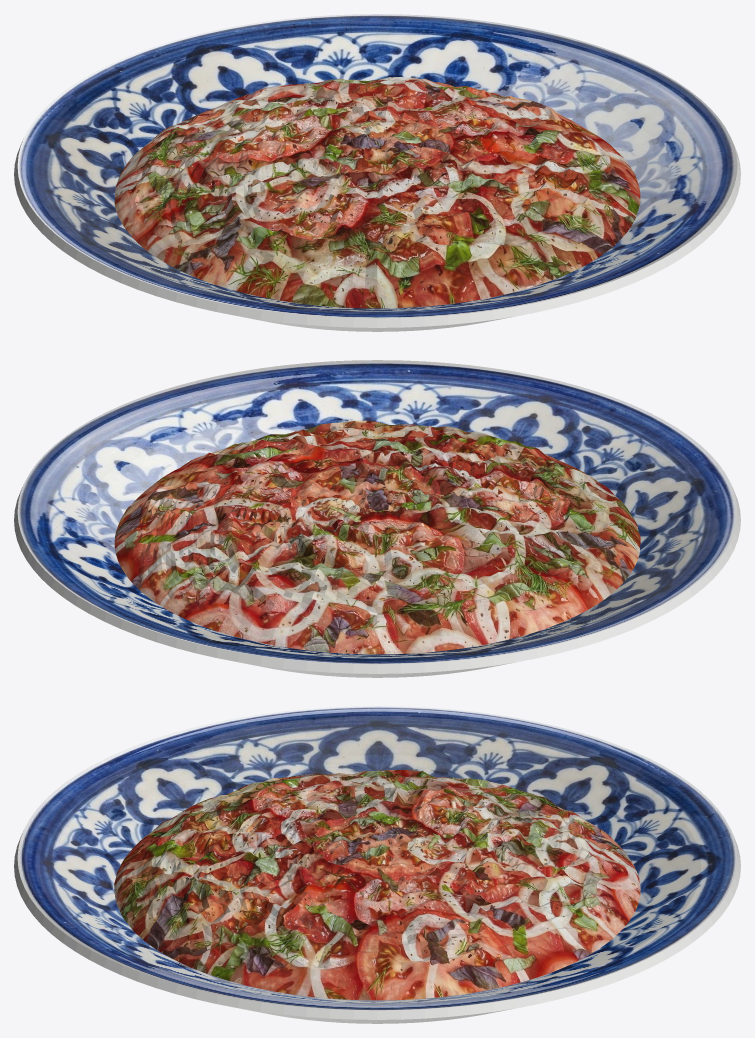
File: achchiq.glb
3 views of the same model, one above another, from view 1: azimuth 30°, elevation 25°; view 2: azimuth 150°, elevation 25°; view 3: azimuth 270°, elevation 25° (orthographic).
Parts seen in each view (by area): view 1: achchiq_2, achchiq_0, achchiq_1; view 2: achchiq_2, achchiq_0, achchiq_1; view 3: achchiq_2, achchiq_0, achchiq_1.
Boxes of the visible parts, x1,y1,x2,y2 form: achchiq_2: (114,77,640,308); achchiq_0: (17,14,737,318); achchiq_1: (14,138,740,331); achchiq_2: (114,420,640,654); achchiq_0: (17,360,737,664); achchiq_1: (14,484,740,677); achchiq_2: (114,770,640,1000); achchiq_0: (17,706,737,1010); achchiq_1: (14,830,740,1023).
Size of the model in its own units: 0.2424 by 0.0317 by 0.2424.
3 materials, 2 textured.
